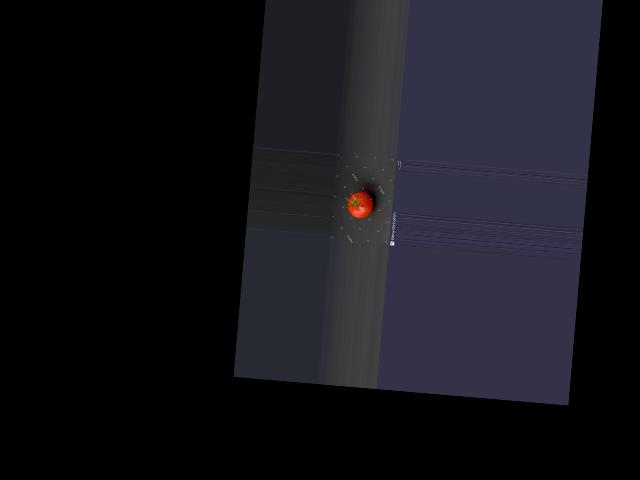tomato: (346, 189, 373, 219)
